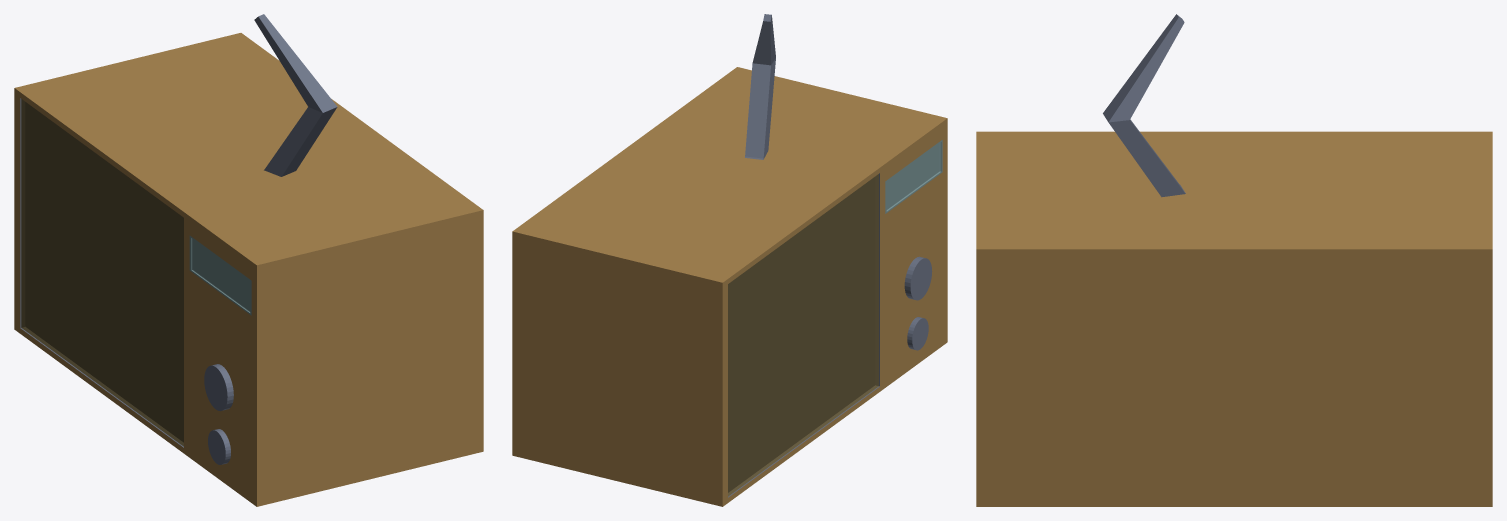
Rendered from Radio.fbx.
The picture shows the model from 3 angles, left to right: view 1: azimuth 30°, elevation 25°; view 2: azimuth 150°, elevation 25°; view 3: azimuth 270°, elevation 25°; orthographic projection. The views are drawn at different scales.
Parts seen in each view (by area): view 1: Cube; view 2: Cube; view 3: Cube.
Part boxes in pixels (<box>): Cube: <box>14,14,483,506</box>; Cube: <box>512,14,947,506</box>; Cube: <box>976,14,1492,506</box>.
Bounding box in the file's own units: 15.54 × 25.4 × 28.
